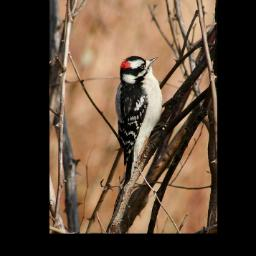Woodpecker: (115, 56, 166, 188)
